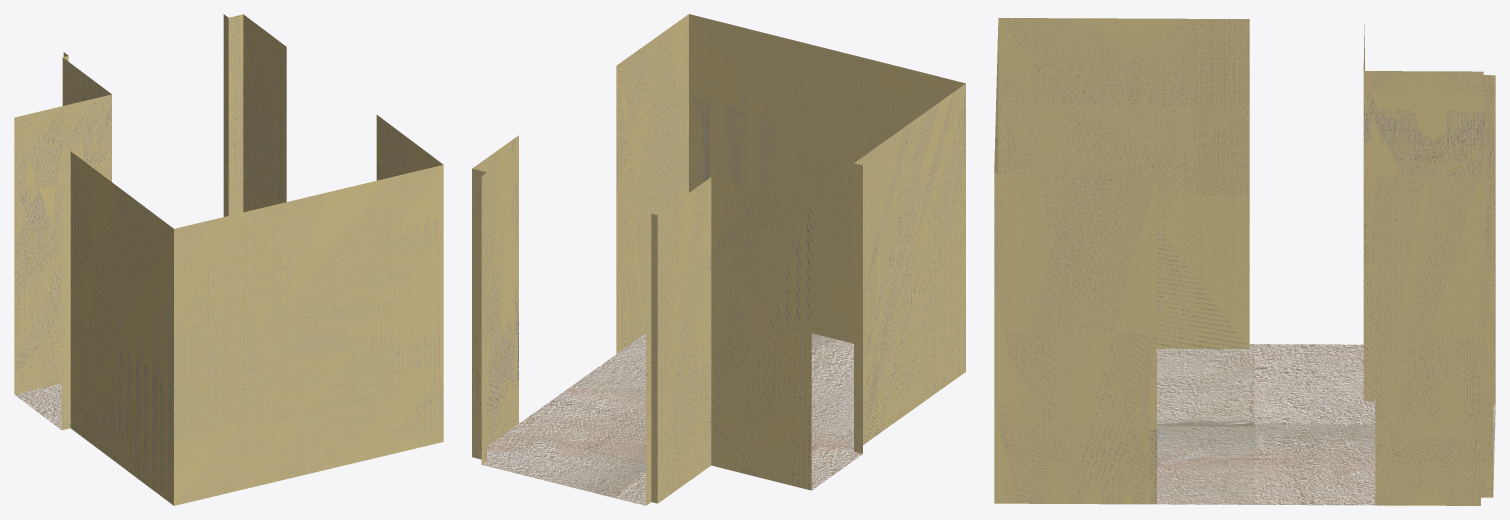
Rendered from COM034.obj.
3 views of the same model, side by side, from view 1: azimuth 30°, elevation 25°; view 2: azimuth 150°, elevation 25°; view 3: azimuth 270°, elevation 25° (orthographic). The views are drawn at different scales.
Visible parts, largest first — view 1: Mesh1 DES034 Model; view 2: Mesh1 DES034 Model; view 3: Mesh1 DES034 Model.
Boxes of the visible parts, left/top/right/bottom form: Mesh1 DES034 Model: left=14, top=14, right=443, bottom=505; Mesh1 DES034 Model: left=472, top=14, right=965, bottom=505; Mesh1 DES034 Model: left=994, top=18, right=1495, bottom=505.
Bounding box in the file's own units: 3.16 × 3 × 4.13.
4 materials, 3 textured.
